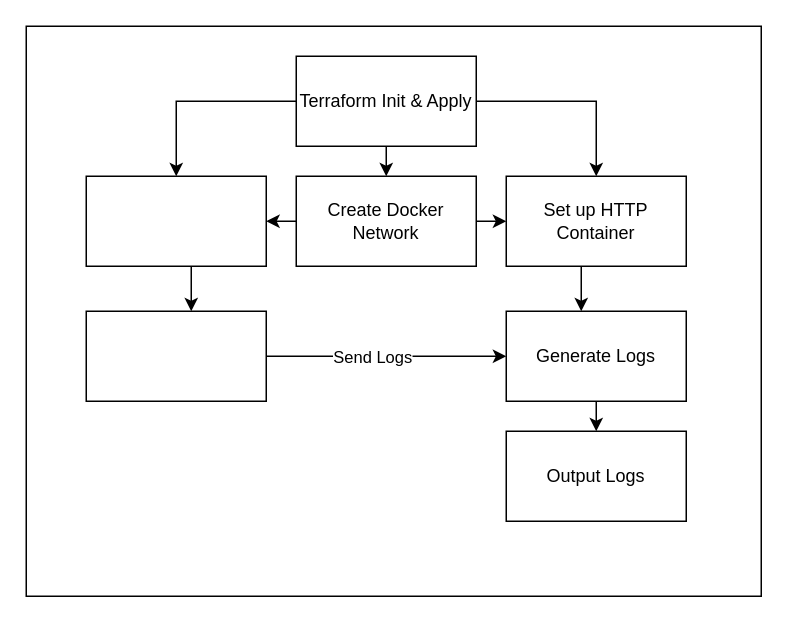
The diagram is 788 pixels wide and 623 high, and some of its shapes have lost their labels. The shapes that lost their labels are listed below. From the top down, each one's centre as x and y in pixels, then its label:
At point 175,220: "Set up Snort Container".
At point 175,355: "Log traffic".
